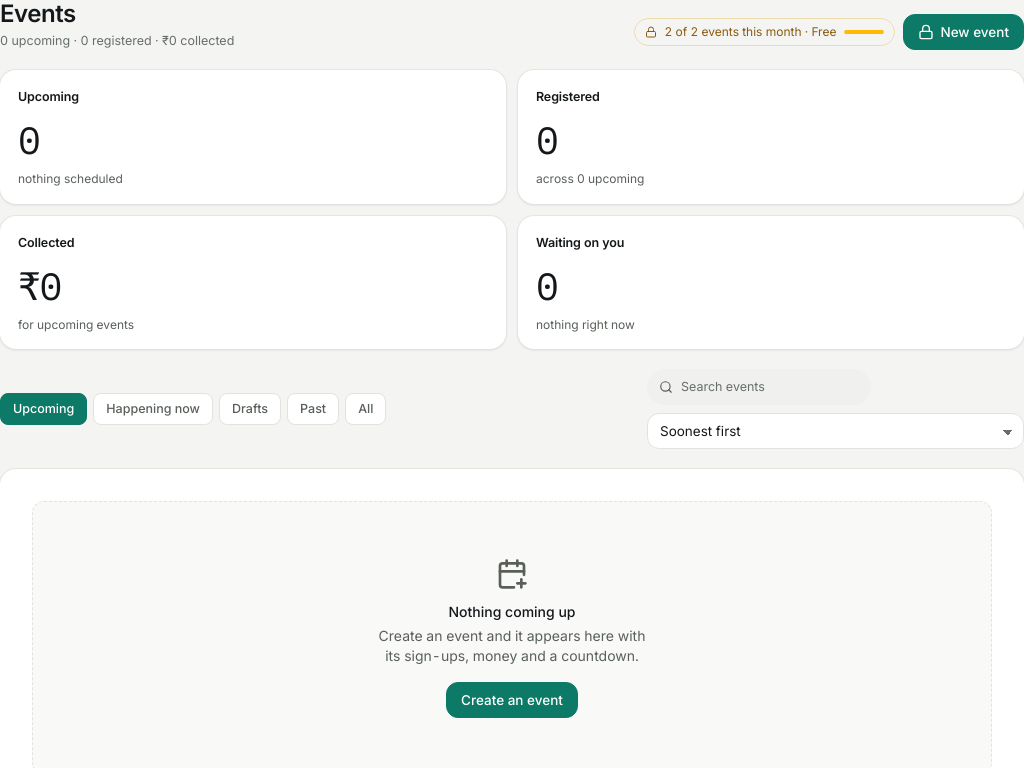
Test: limit meters › say how many events are left this month, and New event opens the upgrade dialog at the cap
Expected: the text "2 of 2 events this month · Free" is shown, [665,23,836,41]
Click the button "New event".
click(964, 32)  # box [903,14,1023,50]
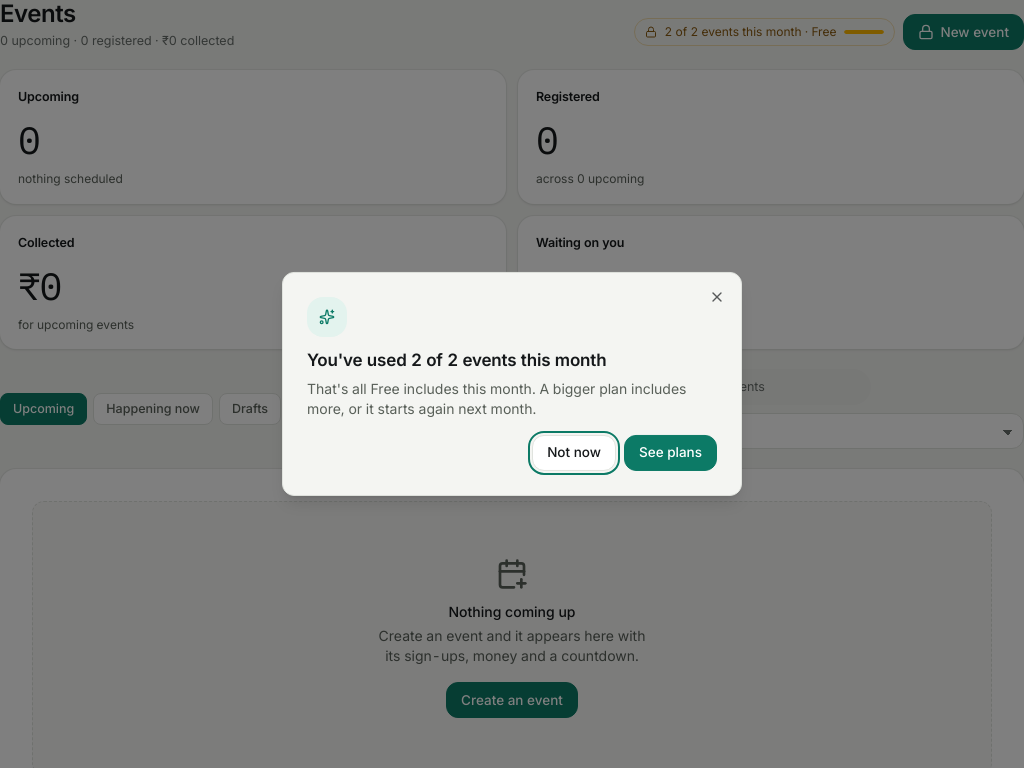
Result: the heading "You've used 2 of 2 events this month" is shown at [307,350,606,370]
Result: the text "That's all Free includes this month" is shown at [307,380,686,417]
